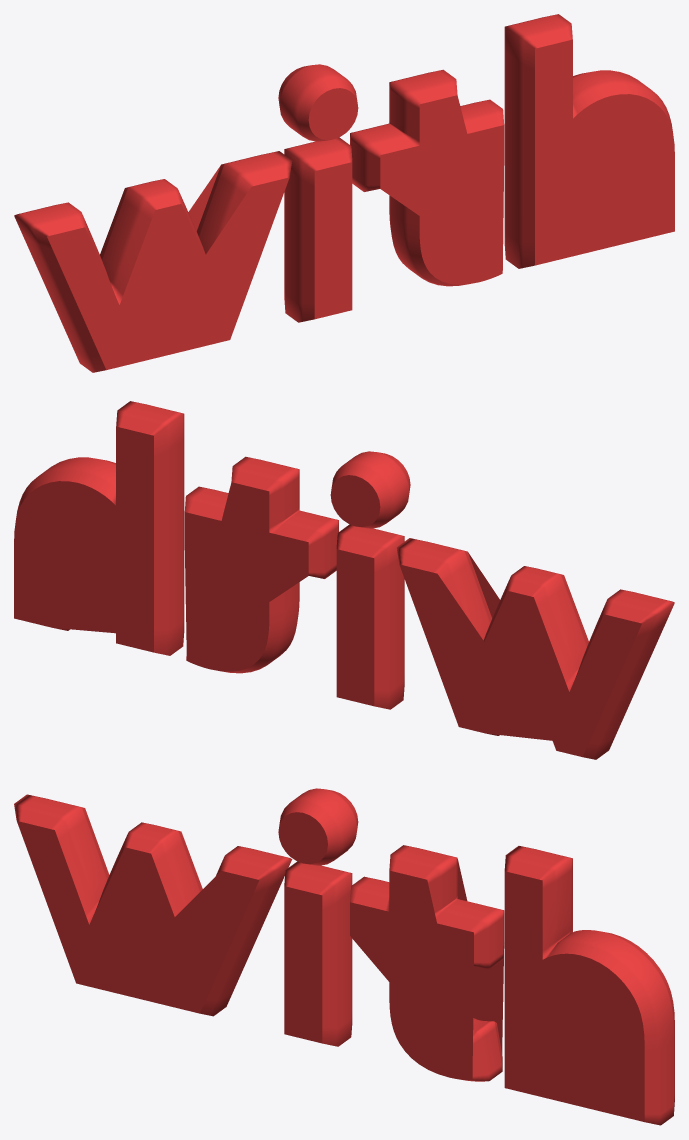
File: with.fbx
3 renders of one model, top to bottom at view 1: azimuth 30°, elevation 25°; view 2: azimuth 150°, elevation 25°; view 3: azimuth 330°, elevation 25°, orthographic.
Visible parts, largest first — view 1: bevelPolygon1, bevelPolygon5, bevelPolygon4, bevelPolygon3, bevelPolygon2; view 2: bevelPolygon1, bevelPolygon5, bevelPolygon4, bevelPolygon3, bevelPolygon2; view 3: bevelPolygon1, bevelPolygon5, bevelPolygon4, bevelPolygon3, bevelPolygon2.
Part boxes in pixels (x1=…): bevelPolygon1: x1=14, y1=151, x2=292, y2=372; bevelPolygon5: x1=504, y1=14, x2=674, y2=268; bevelPolygon4: x1=350, y1=69, x2=504, y2=286; bevelPolygon3: x1=284, y1=137, x2=352, y2=322; bevelPolygon2: x1=278, y1=64, x2=358, y2=141; bevelPolygon1: x1=396, y1=538, x2=674, y2=759; bevelPolygon5: x1=14, y1=401, x2=184, y2=655; bevelPolygon4: x1=184, y1=456, x2=338, y2=673; bevelPolygon3: x1=336, y1=524, x2=404, y2=709; bevelPolygon2: x1=330, y1=451, x2=410, y2=528; bevelPolygon1: x1=14, y1=794, x2=292, y2=1016; bevelPolygon5: x1=504, y1=846, x2=674, y2=1125; bevelPolygon4: x1=350, y1=845, x2=504, y2=1081; bevelPolygon3: x1=284, y1=861, x2=352, y2=1046; bevelPolygon2: x1=278, y1=788, x2=358, y2=865.
Bounding box in the file's own units: 8.64 × 3.12 × 0.7.
